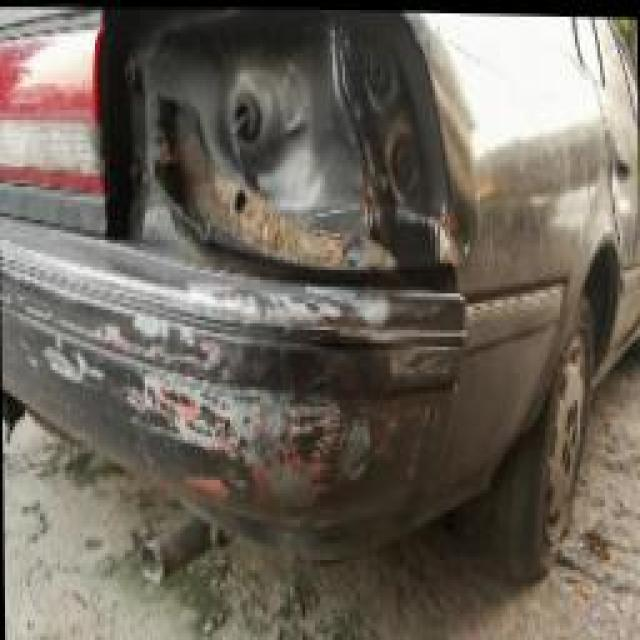Bumper: (0, 247, 468, 564)
Light: (98, 3, 430, 254)
